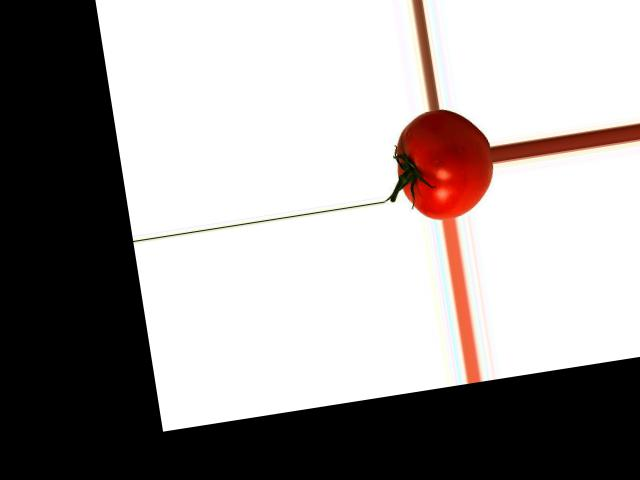tomato: (388, 102, 499, 225)
